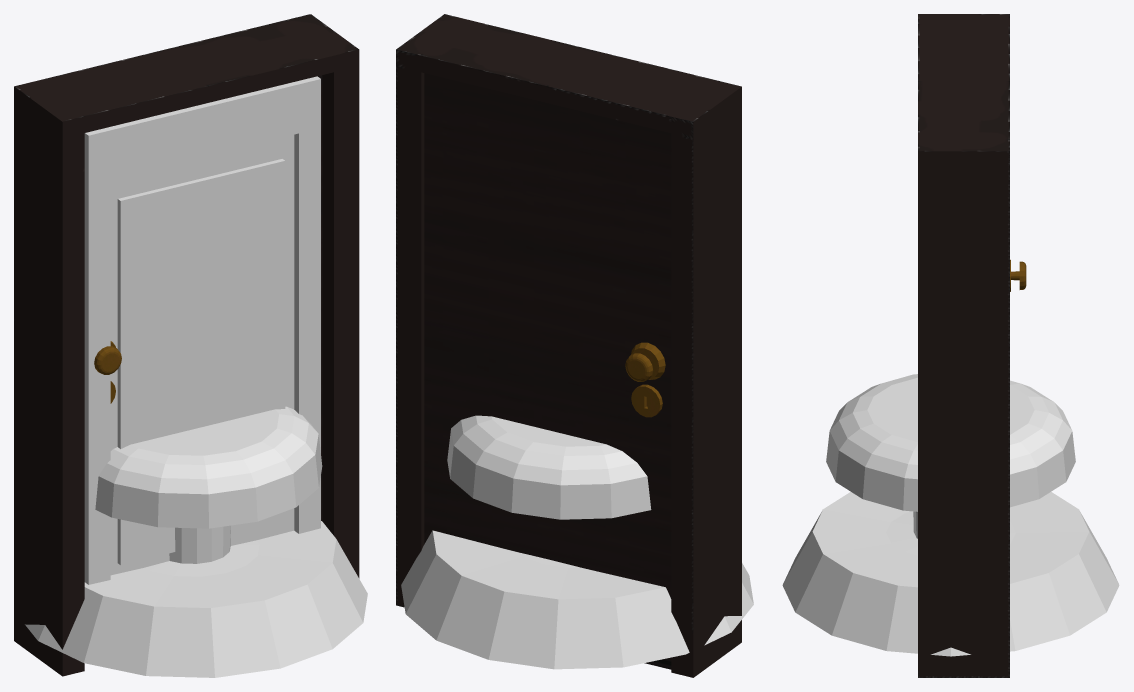
Rendered from Door.fbx.
3 renders of one model, left to right at view 1: azimuth 30°, elevation 25°; view 2: azimuth 150°, elevation 25°; view 3: azimuth 270°, elevation 25°, orthographic. The views are drawn at different scales.
Visible parts, largest first — view 1: Cube, Door Jamb, Door Knob.001, Door, Door Knob; view 2: Door, Door Jamb, Door Knob.001, Door Knob; view 3: Door Jamb, Door Knob.001.
Part boxes in pixels (left/top/right/bottom): Cube: left=84, top=76, right=320, bottom=584; Door Jamb: left=14, top=14, right=359, bottom=676; Door Knob.001: left=25, top=406, right=367, bottom=677; Door: left=318, top=75, right=322, bottom=520; Door Knob: left=94, top=341, right=121, bottom=403; Door: left=424, top=73, right=671, bottom=669; Door Jamb: left=396, top=14, right=741, bottom=677; Door Knob.001: left=401, top=415, right=753, bottom=669; Door Knob: left=625, top=342, right=665, bottom=417; Door Jamb: left=918, top=14, right=1009, bottom=677; Door Knob.001: left=782, top=374, right=1119, bottom=656.
Size of the model in its own units: 243 by 418 by 243.
5 materials, 3 textured.
